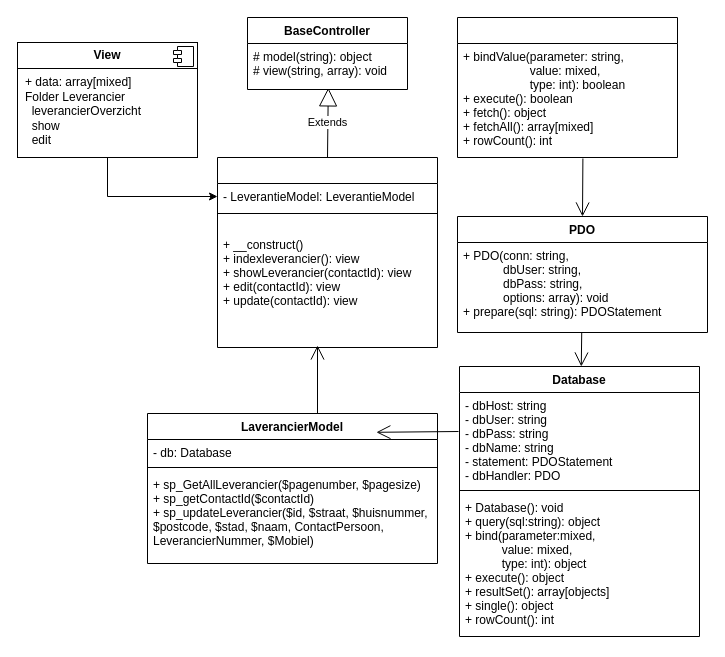
Some shapes in this 725 by 657 pixel diagram are drawn without their labels. The box of each missing label's shape, as (x1, y1, x2, y2) in pixels:
InstructeurController: (216, 156, 438, 348)
PDOStatement: (456, 16, 678, 158)
